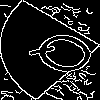Q: (24, 24, 100, 87)
